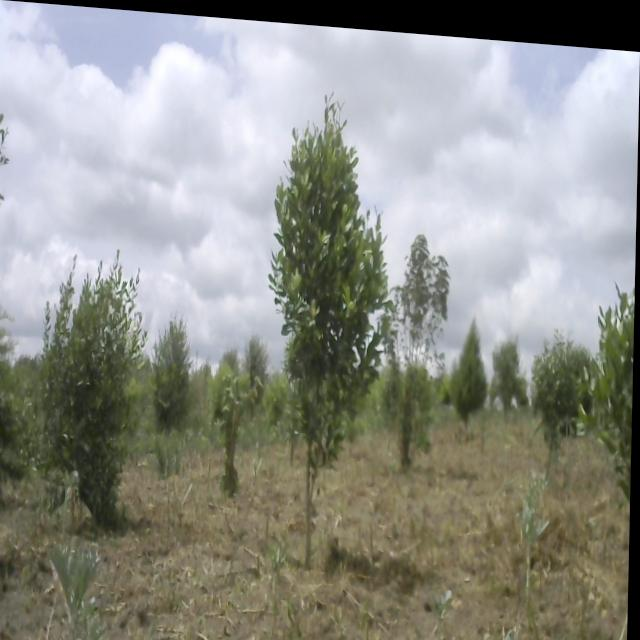Salix alba: (266, 73, 404, 597)
cedrus: (452, 305, 491, 439), (495, 327, 524, 422)
